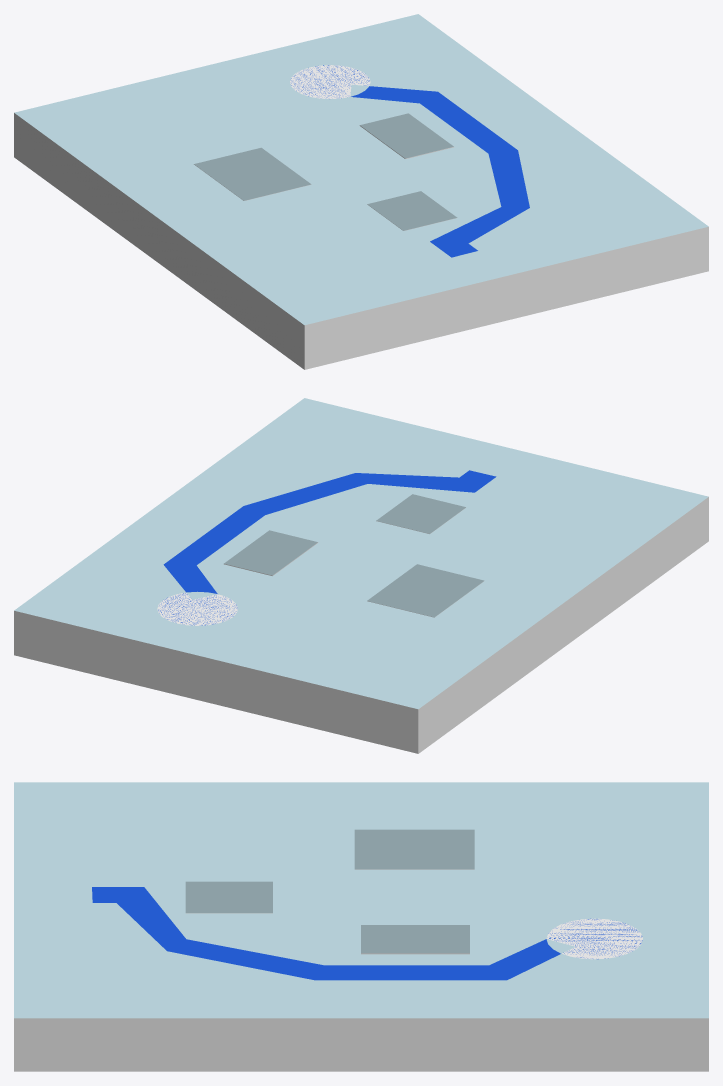
The model's file is blue.dae.
The picture shows the model from 3 angles, top to bottom: view 1: azimuth 30°, elevation 25°; view 2: azimuth 150°, elevation 25°; view 3: azimuth 270°, elevation 25°; orthographic projection. The views are drawn at different scales.
Visible parts, largest first — view 1: SketchUp (×7); view 2: SketchUp (×7); view 3: SketchUp (×7).
Part boxes in pixels (x1,y1,x2,y2): SketchUp (×7): [14, 14, 708, 369]; SketchUp (×7): [14, 398, 708, 753]; SketchUp (×7): [14, 782, 708, 1071].
Size of the model in its own units: 204 by 254 by 21.88.
